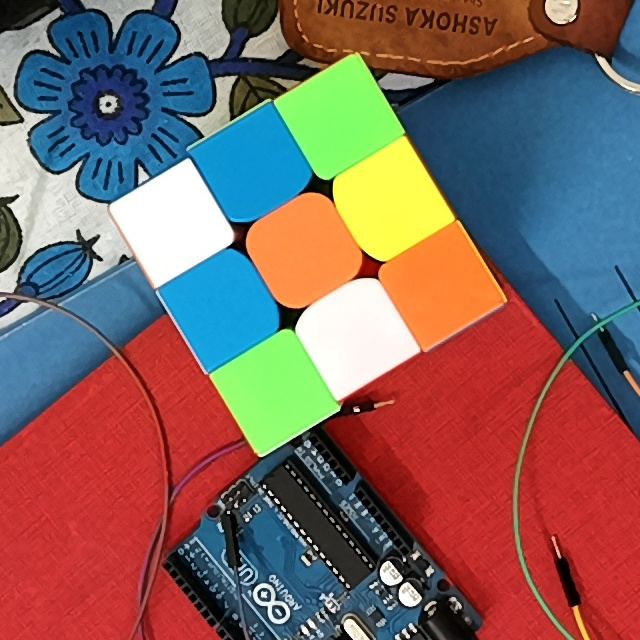tile: (269, 218, 338, 284), (188, 275, 257, 341), (356, 168, 422, 235), (238, 360, 306, 423), (220, 134, 284, 200), (305, 88, 370, 152), (408, 253, 473, 317), (141, 191, 204, 255), (324, 303, 387, 363)
